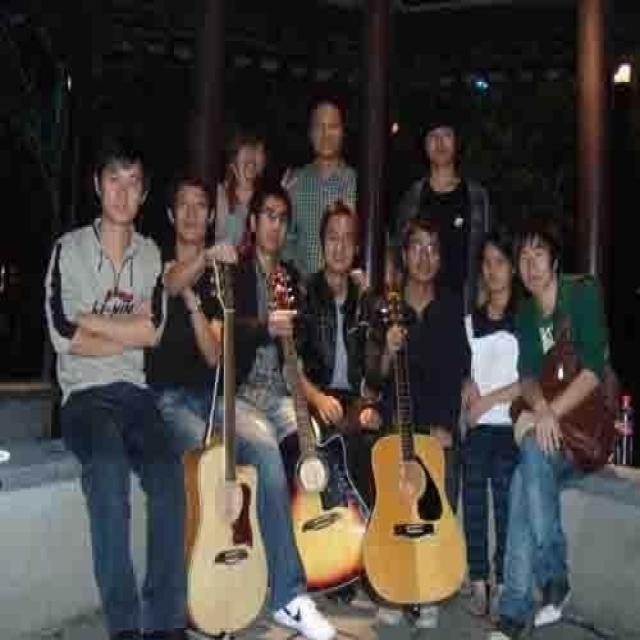guitar: (262, 267, 377, 589), (182, 253, 272, 634), (364, 288, 472, 605)
